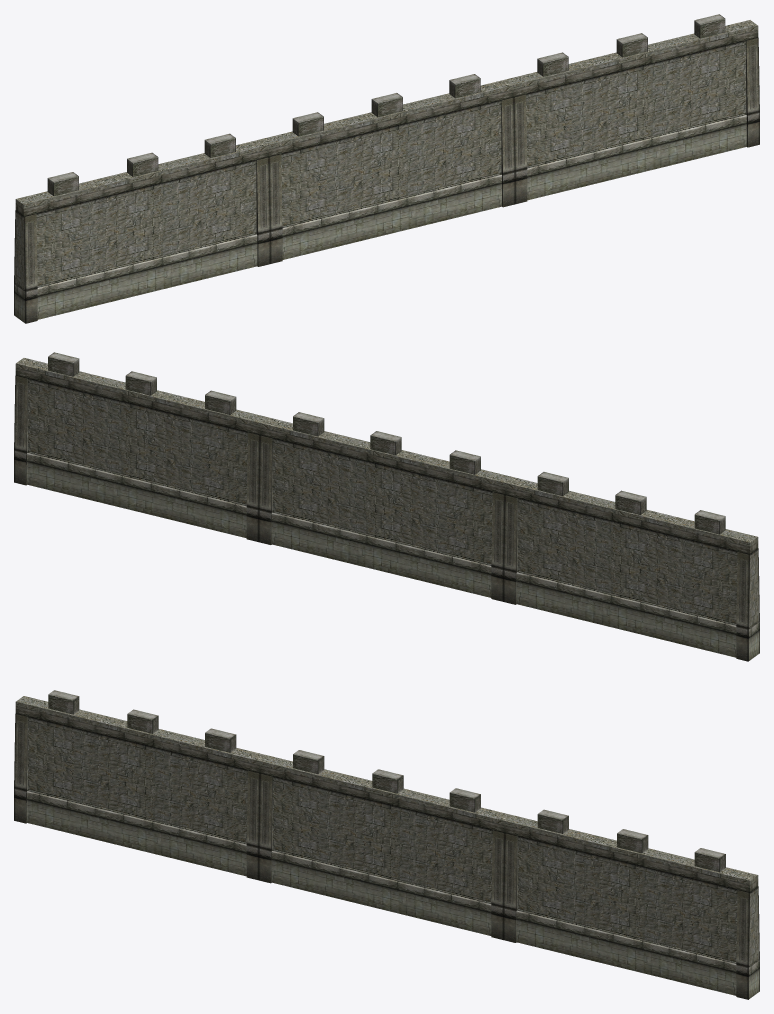
Rendered from ob-bigdam-04.fbx.
3 views of the same model, one above another, from view 1: azimuth 30°, elevation 25°; view 2: azimuth 150°, elevation 25°; view 3: azimuth 330°, elevation 25° (orthographic).
Parts seen in each view (by area): view 1: ob-bigdam-01; view 2: ob-bigdam-01; view 3: ob-bigdam-01.
Part boxes in pixels (x1,y1,x2,y2): ob-bigdam-01: (14, 14, 759, 323); ob-bigdam-01: (14, 352, 759, 661); ob-bigdam-01: (14, 690, 759, 999).
Bounding box in the file's own units: 30.02 × 5.14 × 0.8224.
